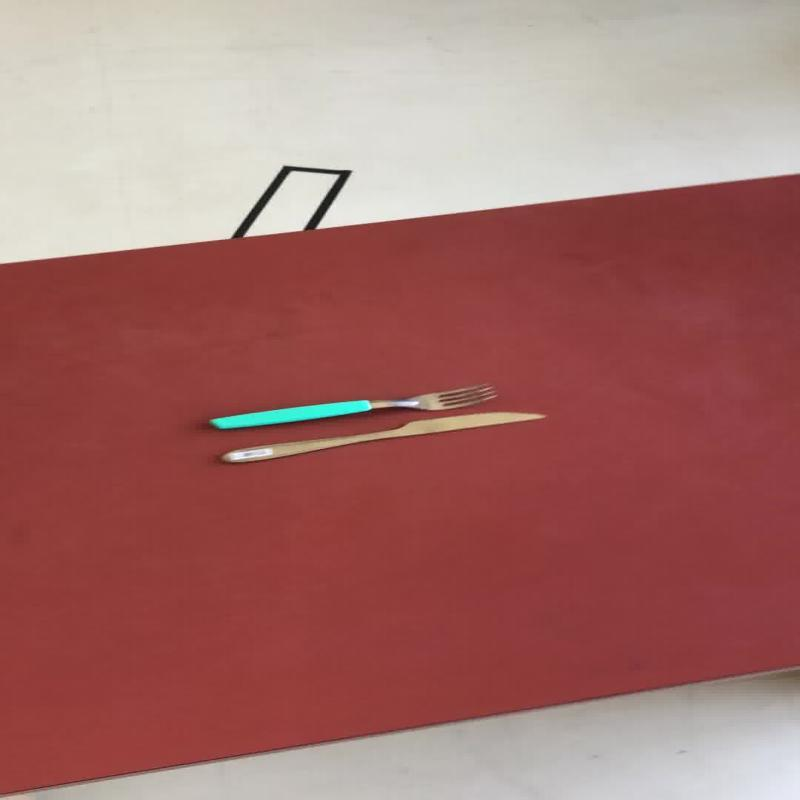fork: (205, 382, 497, 430)
knife: (216, 410, 546, 464), (204, 381, 497, 430)
